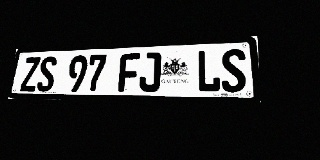7: (85, 54, 107, 92)
9: (67, 55, 88, 92)
F: (118, 53, 140, 92)
J: (139, 52, 161, 92)
L: (197, 50, 221, 92)
S: (221, 49, 247, 92), (36, 56, 57, 92)
Z: (20, 57, 41, 92)
